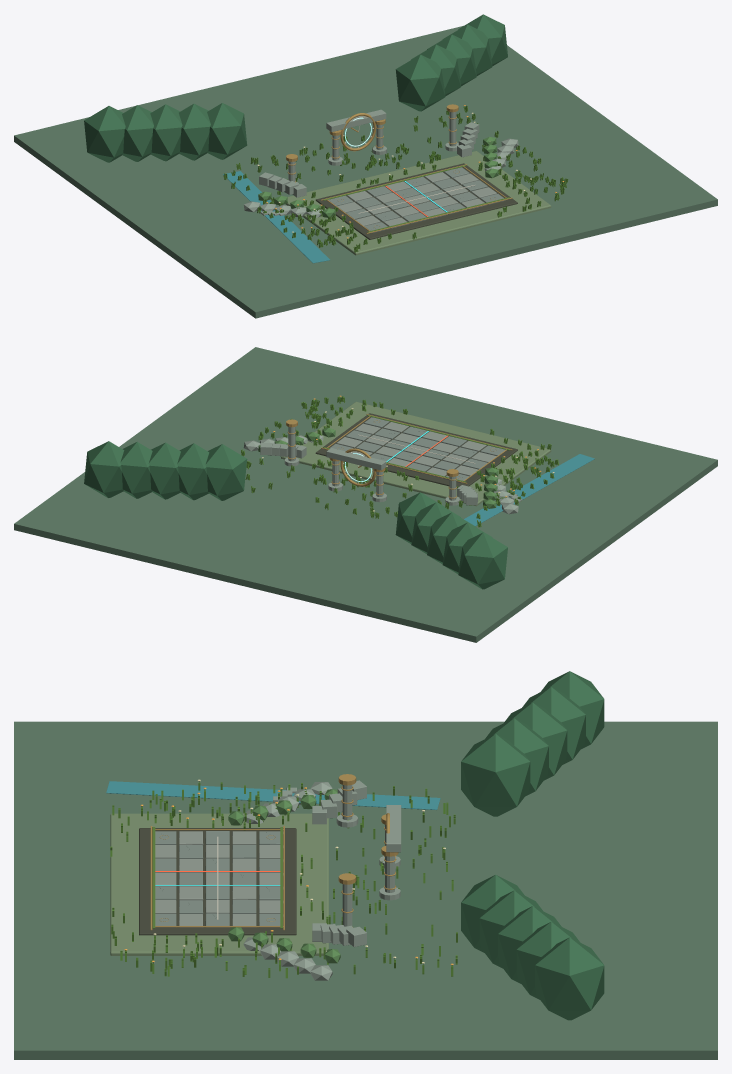
The model's file is clock_ruins.glb.
3 renders of one model, top to bottom at view 1: azimuth 30°, elevation 25°; view 2: azimuth 150°, elevation 25°; view 3: azimuth 270°, elevation 25°, orthographic. The views are drawn at different scales.
Parts seen in each view (by area): view 1: BattleWorldGround, Foliage, BattleMeadow, ArenaTiles, Architecture, ArenaBase, Energy, ArenaBorders; view 2: BattleWorldGround, Foliage, ArenaTiles, BattleMeadow, Architecture, ArenaBase, Energy, ArenaBorders; view 3: BattleWorldGround, Foliage, BattleMeadow, ArenaTiles, ArenaBase, Architecture, Energy, ArenaBorders.
Boxes of the visible parts, left/top/right/bottom form: BattleWorldGround: left=14, top=25, right=717, bottom=318; Foliage: left=84, top=14, right=568, bottom=252; BattleMeadow: left=285, top=151, right=551, bottom=255; ArenaTiles: left=328, top=167, right=505, bottom=233; Architecture: left=259, top=104, right=479, bottom=215; ArenaBase: left=315, top=163, right=517, bottom=239; Energy: left=223, top=171, right=329, bottom=263; ArenaBorders: left=321, top=164, right=512, bottom=233; BattleWorldGround: left=14, top=347, right=717, bottom=642; Foliage: left=84, top=395, right=558, bottom=589; ArenaTiles: left=327, top=417, right=505, bottom=483; BattleMeadow: left=281, top=401, right=551, bottom=506; Architecture: left=260, top=419, right=522, bottom=505; ArenaBase: left=315, top=413, right=517, bottom=486; Energy: left=464, top=454, right=594, bottom=526; ArenaBorders: left=321, top=414, right=512, bottom=483; BattleWorldGround: left=14, top=721, right=717, bottom=1059; Foliage: left=110, top=671, right=604, bottom=1020; BattleMeadow: left=110, top=813, right=328, bottom=955; ArenaTiles: left=155, top=831, right=283, bottom=927; ArenaBase: left=139, top=828, right=296, bottom=935; Architecture: left=273, top=774, right=401, bottom=947; Energy: left=106, top=781, right=440, bottom=809; ArenaBorders: left=150, top=826, right=284, bottom=930.
Size of the model in its own units: 42 by 5.44 by 38.
